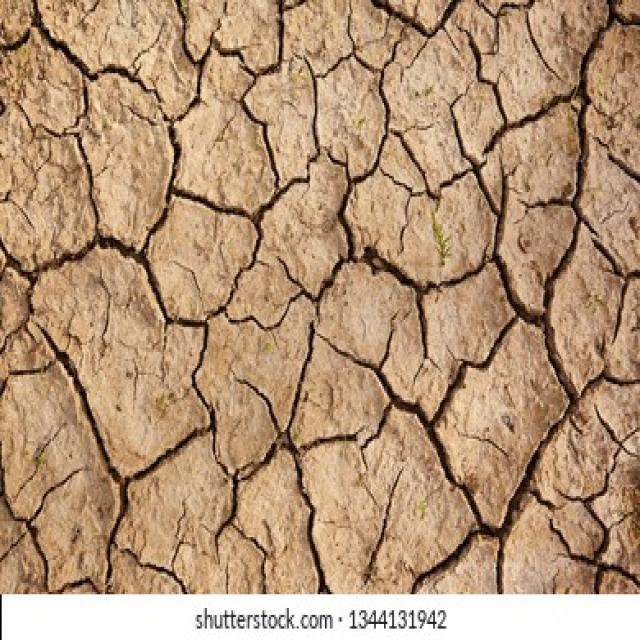Clay Soil: (32, 56, 580, 542)
